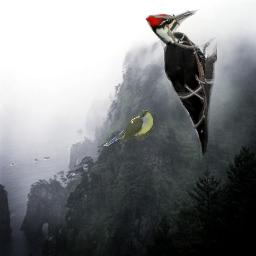Cuckoo: (102, 110, 153, 146)
Woodpecker: (145, 9, 217, 164)
